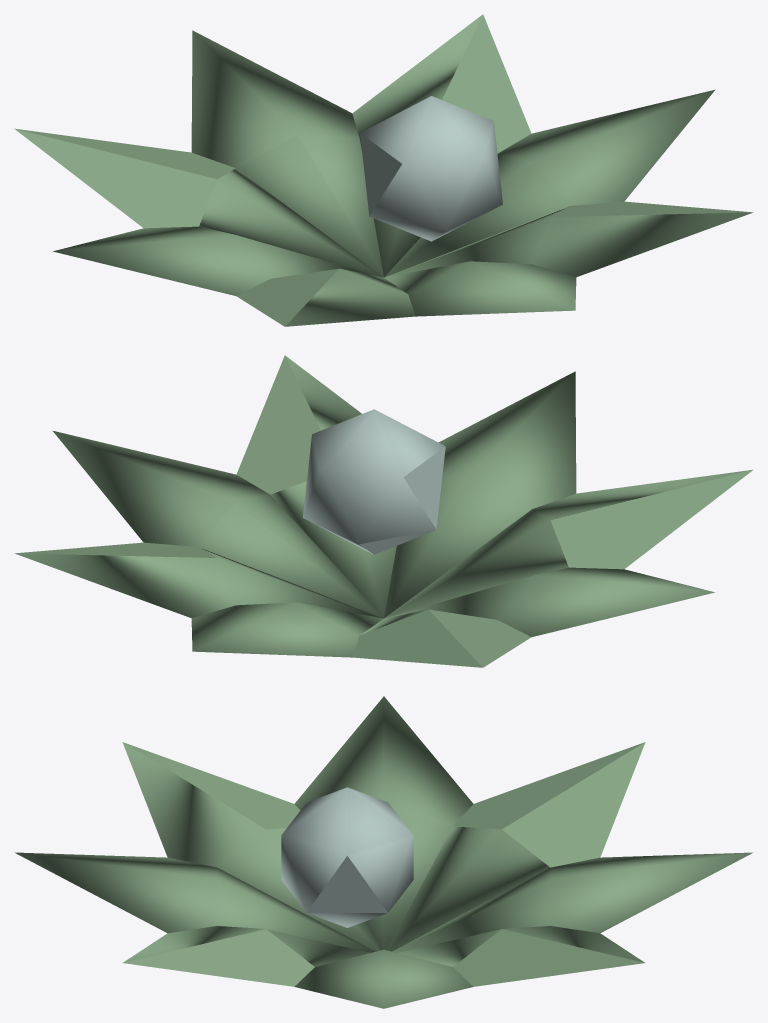
The model's file is map-exclusive-v3__meadow_12.glb.
3 renders of one model, top to bottom at view 1: azimuth 30°, elevation 25°; view 2: azimuth 150°, elevation 25°; view 3: azimuth 270°, elevation 25°, orthographic. The views are drawn at different scales.
Visible parts, largest first — view 1: meadow_12; view 2: meadow_12; view 3: meadow_12.
Boxes of the visible parts, <box> form: meadow_12: <box>14,14,753,326</box>; meadow_12: <box>14,355,753,667</box>; meadow_12: <box>15,696,752,1008</box>.
Size of the model in its own units: 1.62 by 0.44 by 1.62.
